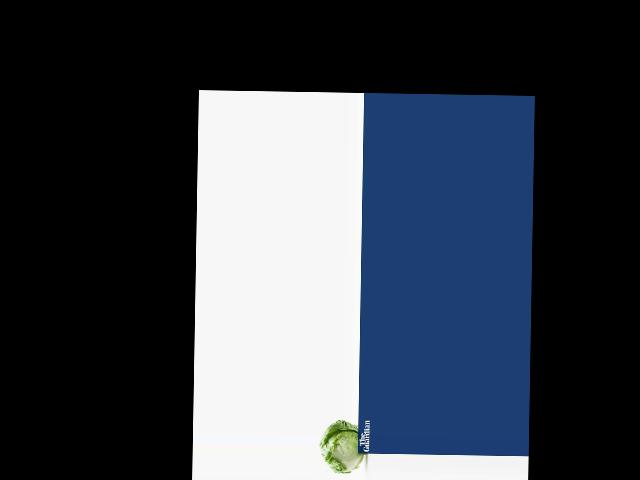lettuce: (316, 421, 364, 473)
